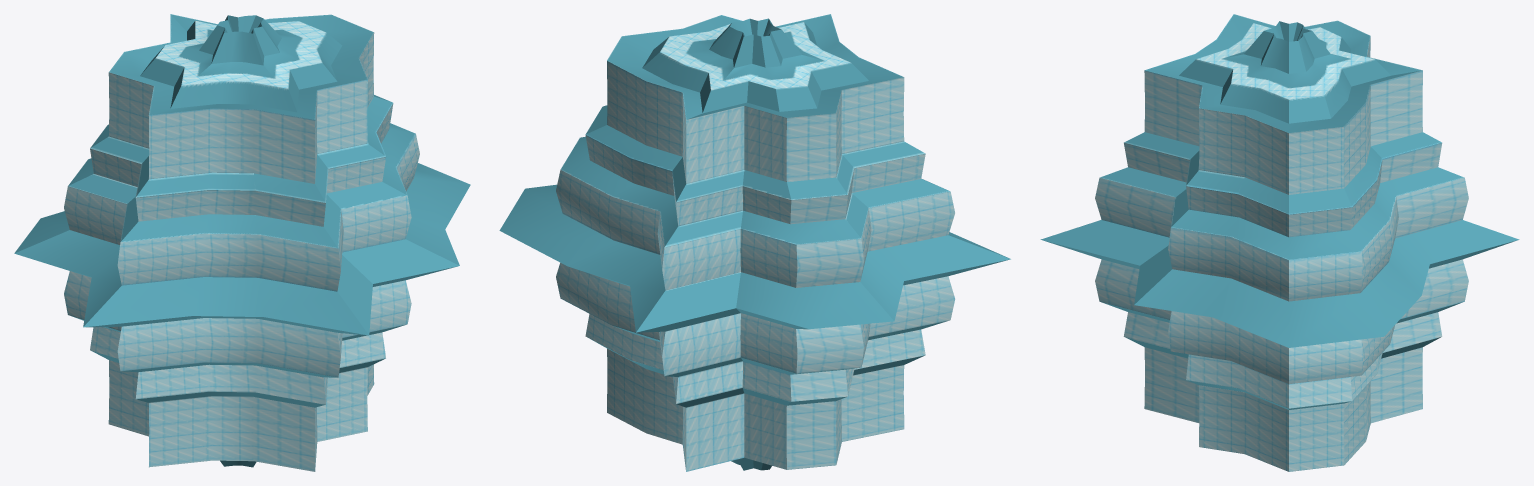
The model's file is bina10.fbx.
The picture shows the model from 3 angles, left to right: view 1: azimuth 30°, elevation 25°; view 2: azimuth 150°, elevation 25°; view 3: azimuth 270°, elevation 25°; orthographic projection. The views are drawn at different scales.
Visible parts, largest first — view 1: bina10_; view 2: bina10_; view 3: bina10_.
Boxes of the visible parts, x1,y1,x2,y2 form: bina10_: (14,14,470,471); bina10_: (499,14,1010,471); bina10_: (1040,14,1519,471).
Size of the model in its own units: 127 by 121 by 126.
Materials: 1 (1 with a texture image).
